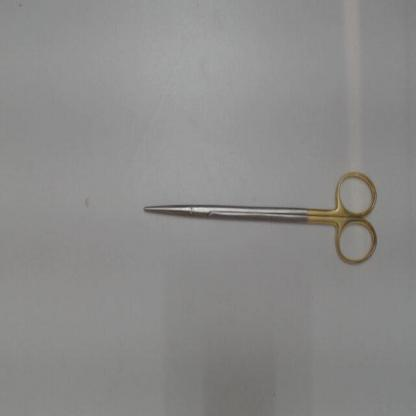7 Metzenbaum Scissors: (145, 168, 380, 270)
